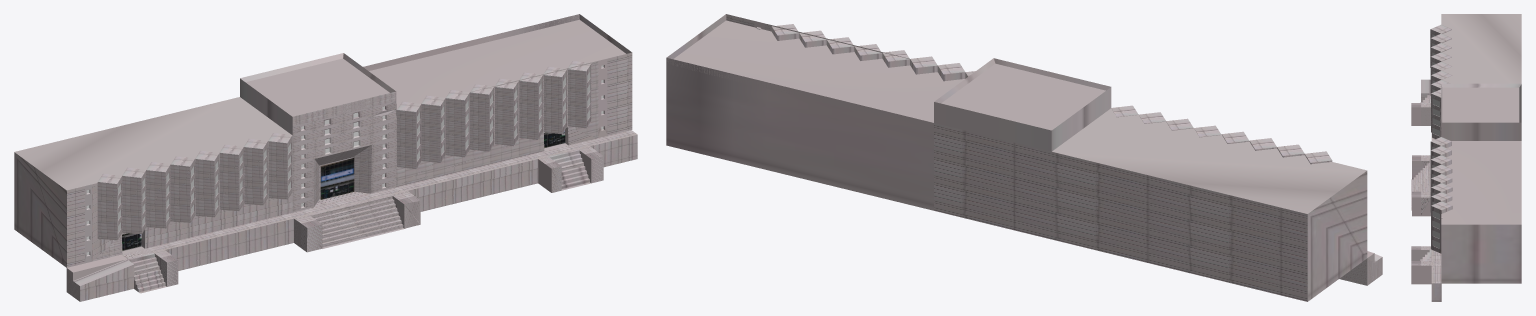
The model's file is gonghakgan 1.fbx.
3 renders of one model, left to right at view 1: azimuth 30°, elevation 25°; view 2: azimuth 150°, elevation 25°; view 3: azimuth 270°, elevation 25°, orthographic. The views are drawn at different scales.
Visible parts, largest first — view 1: Cube, Cube.009, Cube.010, Collection 2.008|Cube.007|Dupli|, Collection 2.003|Cube.007|Dupli|, Collection 2.003|Cube.008|Dupli|1, Collection 2.007|Cube.008|Dupli|1, Collection 2.008|Cube.008|Dupli|1, Collection 2.006|Cube.008|Dupli|1, Collection 2.007|Cube.007|Dupli|, Cube.007, Collection 2.002|Cube.007|Dupli| (+10 smaller); view 2: Cube, Cube.009; view 3: Cube, Cube.009, Cube.008, Cube.007, Cube.010, Collection 2.003|Cube.008|Dupli|1, Collection 2.003|Cube.007|Dupli|, Collection 2.006|Cube.008|Dupli|1, Collection 2.007|Cube.008|Dupli|1, Collection 2.008|Cube.007|Dupli|, Collection 2.008|Cube.008|Dupli|1, Collection 2|Cube.008|Dupli|1 (+7 smaller).
Part boxes in pixels (x1=…): Cube: x1=14, y1=14, x2=632, y2=267; Cube.009: x1=66, y1=130, x2=637, y2=301; Cube.010: x1=309, y1=194, x2=405, y2=248; Collection 2.008|Cube.007|Dupli|: x1=97, y1=173, x2=122, y2=240; Collection 2.003|Cube.007|Dupli|: x1=170, y1=156, x2=195, y2=222; Collection 2.003|Cube.008|Dupli|1: x1=470, y1=84, x2=494, y2=151; Collection 2.007|Cube.008|Dupli|1: x1=421, y1=95, x2=445, y2=162; Collection 2.008|Cube.008|Dupli|1: x1=397, y1=101, x2=421, y2=169; Collection 2.006|Cube.008|Dupli|1: x1=445, y1=90, x2=469, y2=157; Collection 2.007|Cube.007|Dupli|: x1=122, y1=167, x2=146, y2=234; Cube.007: x1=268, y1=133, x2=292, y2=199; Collection 2.002|Cube.007|Dupli|: x1=195, y1=150, x2=219, y2=217; Cube: x1=666, y1=14, x2=1367, y2=301; Cube.009: x1=1339, y1=251, x2=1382, y2=285; Cube: x1=1440, y1=14, x2=1521, y2=283; Cube.009: x1=1411, y1=79, x2=1441, y2=301; Cube.008: x1=1431, y1=201, x2=1452, y2=253; Cube.007: x1=1431, y1=89, x2=1441, y2=138; Cube.010: x1=1411, y1=160, x2=1430, y2=210; Collection 2.003|Cube.008|Dupli|1: x1=1430, y1=164, x2=1452, y2=212; Collection 2.003|Cube.007|Dupli|: x1=1430, y1=52, x2=1451, y2=95; Collection 2.006|Cube.008|Dupli|1: x1=1430, y1=155, x2=1451, y2=168; Collection 2.007|Cube.008|Dupli|1: x1=1430, y1=146, x2=1451, y2=159; Collection 2.008|Cube.007|Dupli|: x1=1430, y1=24, x2=1451, y2=67; Collection 2.008|Cube.008|Dupli|1: x1=1430, y1=137, x2=1451, y2=149; Collection 2|Cube.008|Dupli|1: x1=1431, y1=192, x2=1452, y2=205.
Size of the model in its own units: 4856 by 988 by 1076.
